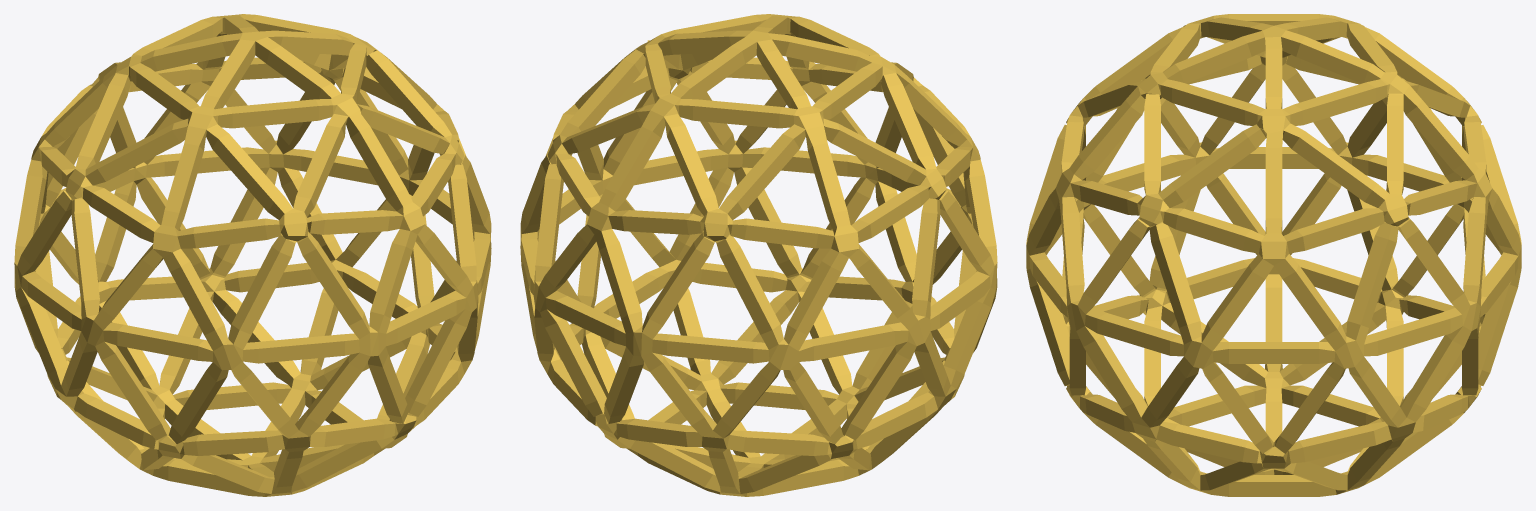
File: player.glb
3 renders of one model, left to right at view 1: azimuth 30°, elevation 25°; view 2: azimuth 150°, elevation 25°; view 3: azimuth 270°, elevation 25°, orthographic.
Visible parts, largest first — view 1: Icosphere.001; view 2: Icosphere.001; view 3: Icosphere.001.
Boxes of the visible parts, bbox=[...] form: Icosphere.001: bbox=[14, 14, 491, 496]; Icosphere.001: bbox=[520, 14, 997, 496]; Icosphere.001: bbox=[1026, 14, 1521, 496].
Bounding box in the file's own units: 0.9234 × 0.9525 × 0.9579.
